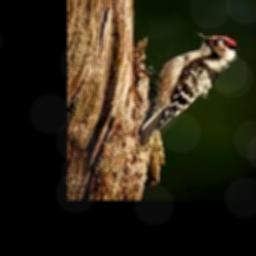Woodpecker: (140, 31, 239, 144)
